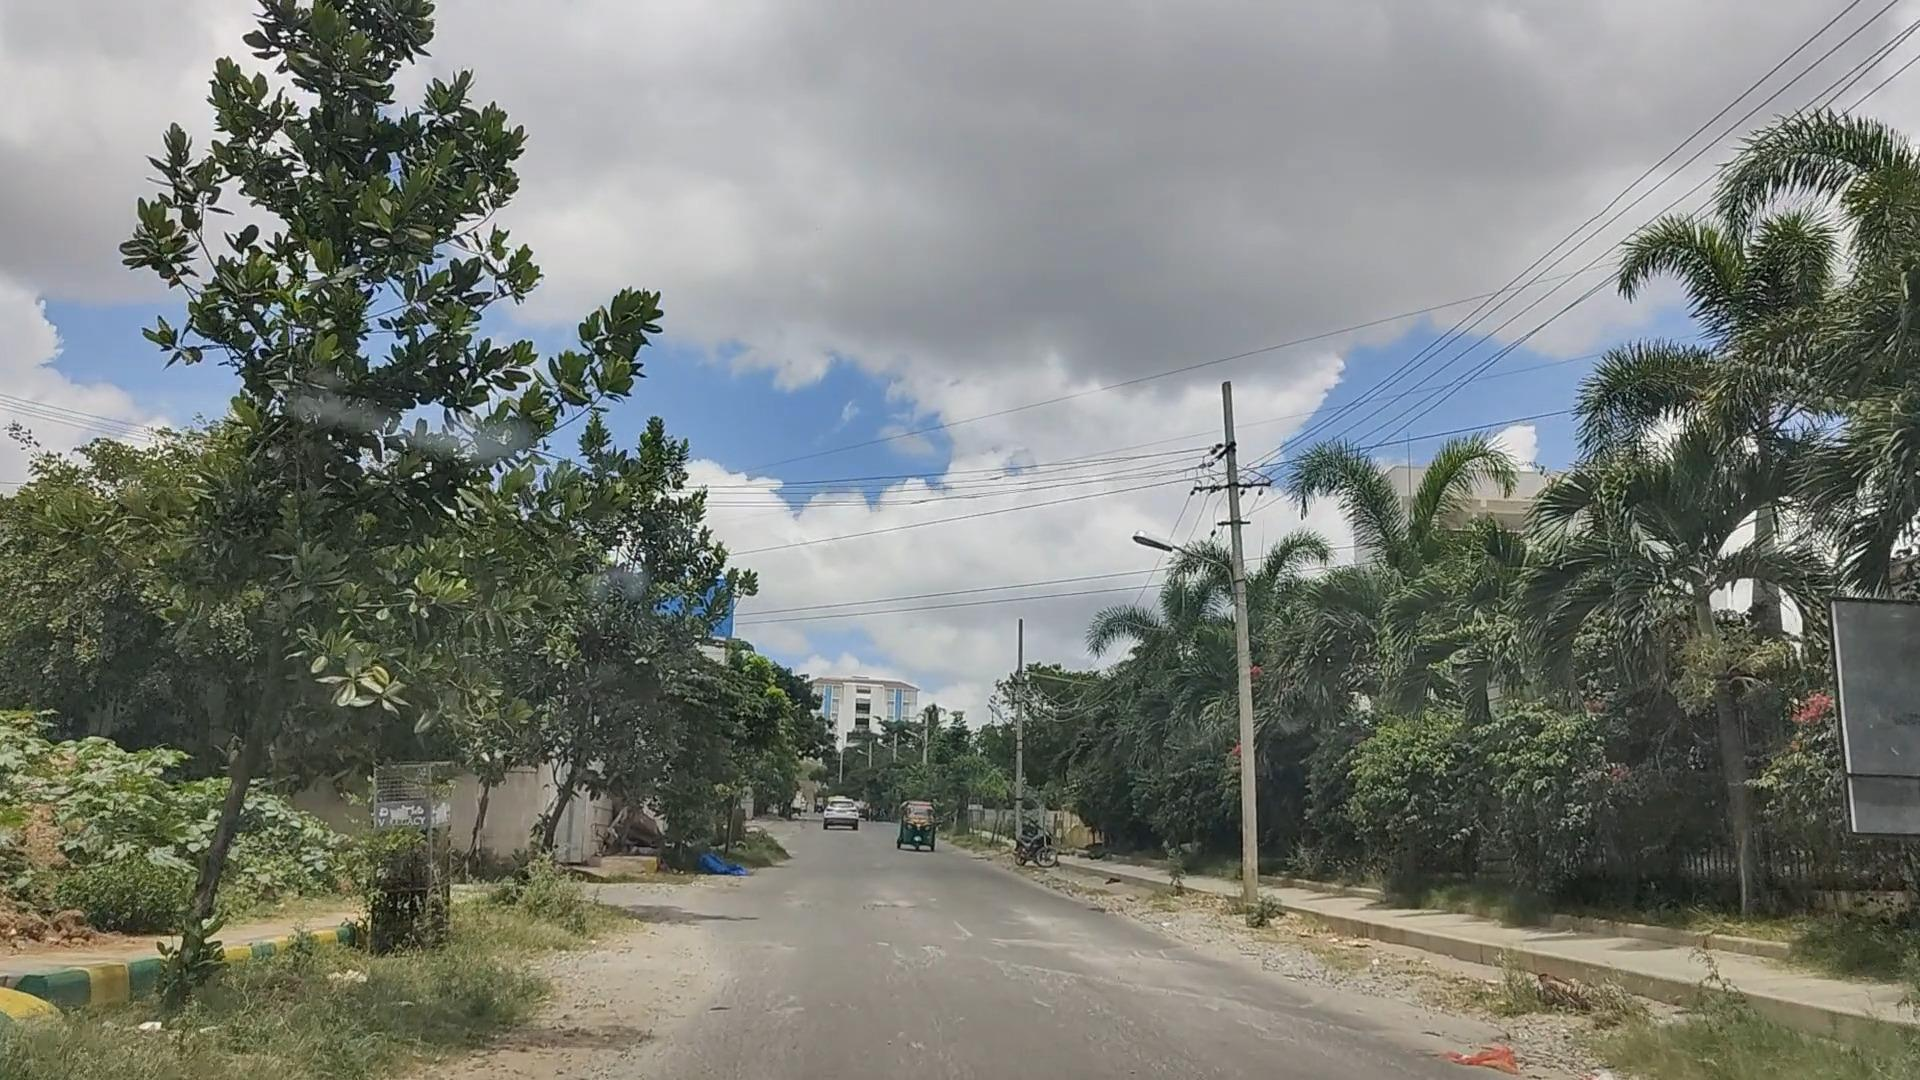RoadDamages: (878, 905, 1151, 1009)
